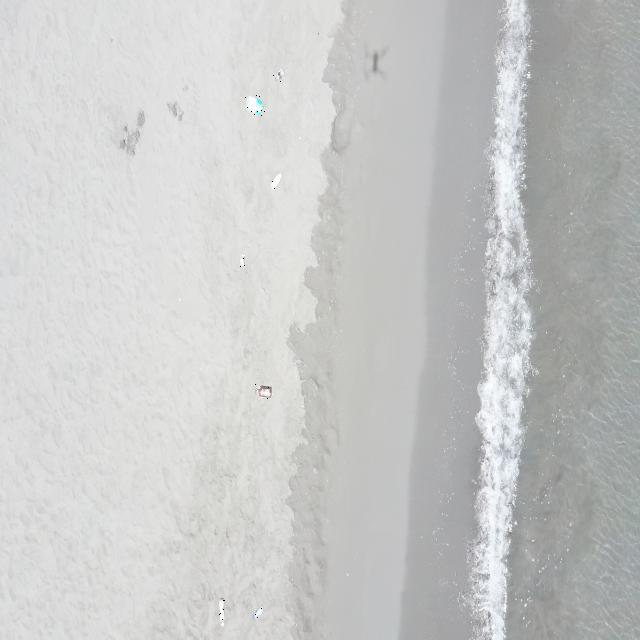Garbage: (120, 111, 143, 154), (120, 125, 139, 154), (245, 96, 263, 115), (167, 100, 183, 120), (256, 384, 271, 396), (271, 172, 280, 188), (272, 68, 283, 80), (136, 111, 144, 127), (219, 597, 223, 626), (252, 607, 261, 617), (240, 253, 244, 267)
